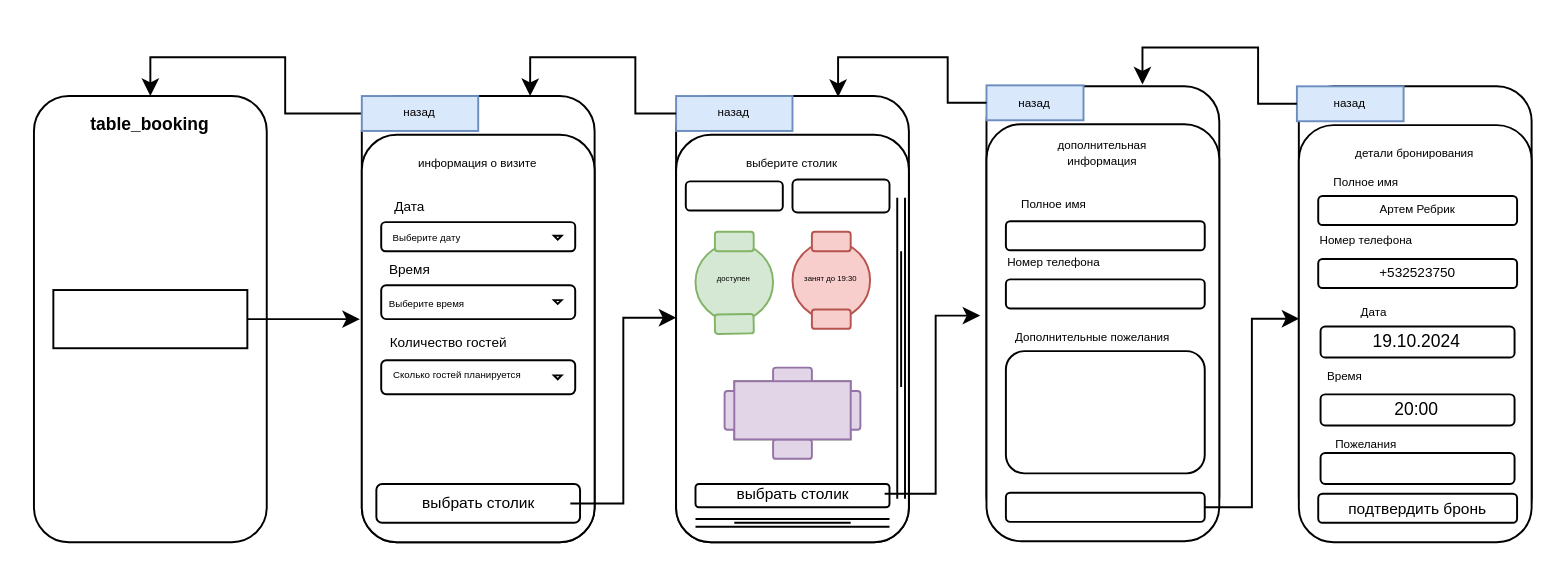
Image size: 1566x576. Some labels were removed from this diagram. Here are the shapes that lost their labels. From the top down, the box of each, then its label:
(684, 179, 783, 210): 1 этаж
(791, 178, 889, 212): 2 этаж
(51, 288, 247, 348): Забронировать столик
(732, 379, 851, 439): выбран
(1004, 491, 1205, 522): далее
